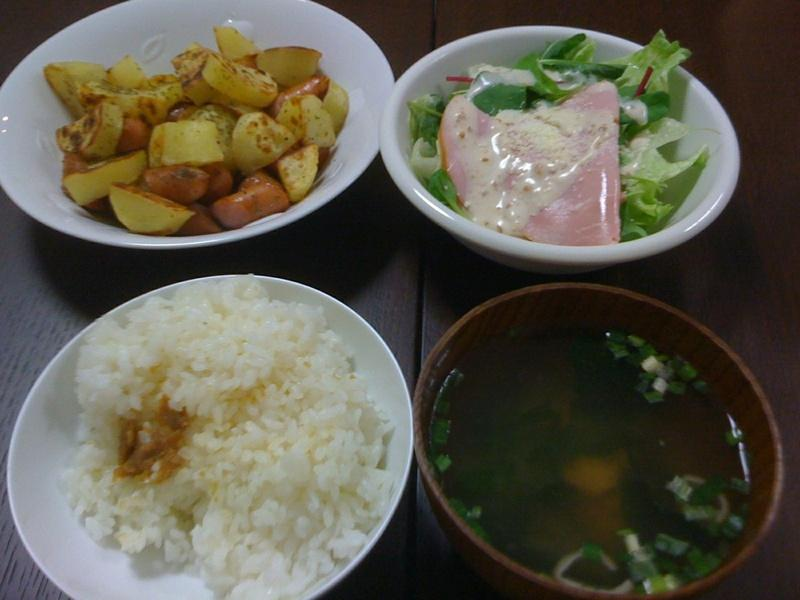rice: (63, 277, 404, 599)
